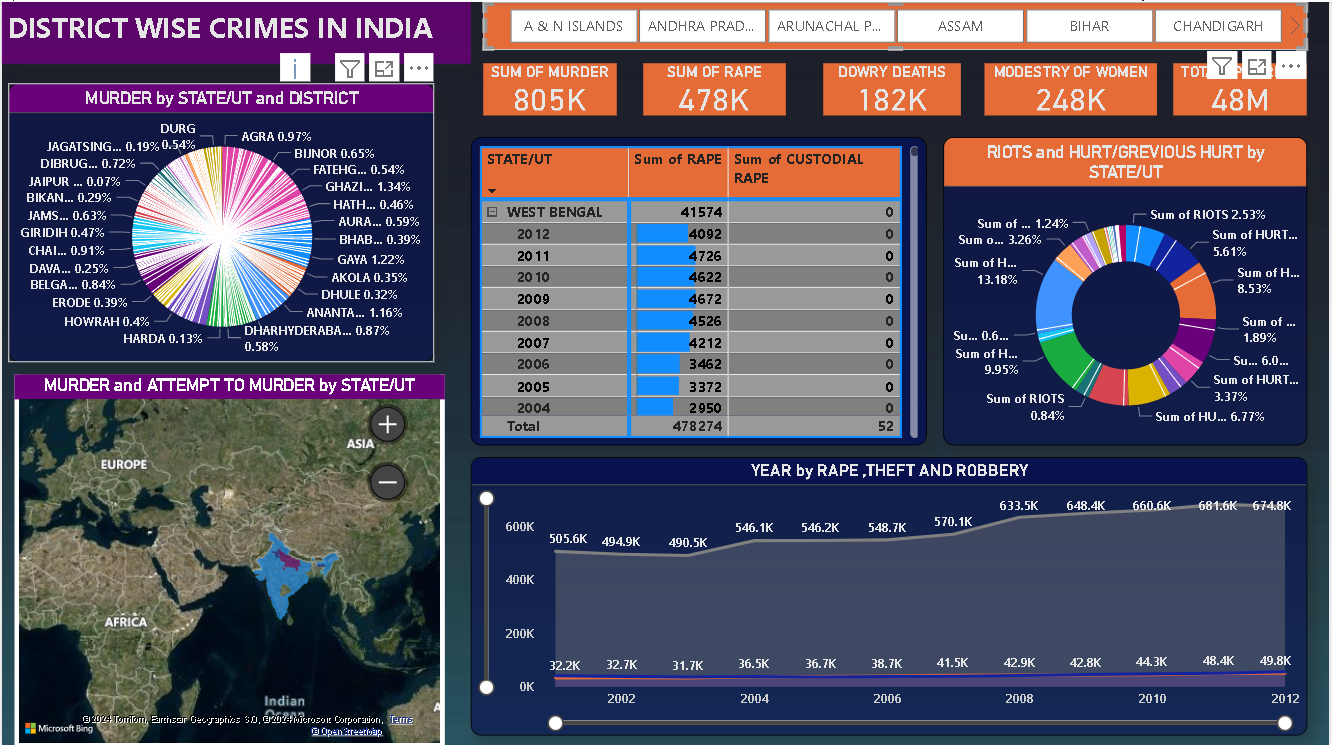

This screenshot's page, from the dashboard's own definition file:
{"tool":"powerbi","page":{"name":"Page 1","canvas":[1280,720],"ordinal":0},"visuals":[{"type":"filledMap","title":" MURDER and ATTEMPT TO MURDER by STATE/UT ","fields":{"Category":["District wise Crimes in India 2001-2012.STATE/UT"],"Series":["District wise Crimes in India 2001-2012.ATTEMPT TO MURDER"]},"box":[12.1,359.4,414.9,360.6],"z":0},{"type":"textbox","box":[0,0,452.3,59.1],"z":1000},{"type":"pieChart","title":"MURDER by STATE/UT and DISTRICT","fields":{"Category":["District wise Crimes in India 2001-2012.STATE/UT"],"Y":["Sum(District wise Crimes in India 2001-2012.MURDER)"],"Series":["District wise Crimes in India 2001-2012.DISTRICT"]},"box":[6,78.4,411.3,268.9],"z":2000},{"type":"areaChart","title":"YEAR by RAPE ,THEFT AND ROBBERY","fields":{"Category":["District wise Crimes in India 2001-2012.YEAR"],"Y":["Sum(District wise Crimes in India 2001-2012.RAPE)","Sum(District wise Crimes in India 2001-2012.THEFT)","Sum(District wise Crimes in India 2001-2012.ROBBERY)"]},"box":[452.3,439,806.8,268.9],"z":3000},{"type":"donutChart","title":"RIOTS and HURT/GREVIOUS HURT by STATE/UT","fields":{"Category":["District wise Crimes in India 2001-2012.STATE/UT","District wise Crimes in India 2001-2012.YEAR"],"Y":["Sum(District wise Crimes in India 2001-2012.RIOTS)","Sum(District wise Crimes in India 2001-2012.HURT/GREVIOUS HURT)"]},"box":[908.1,130.3,351,297.9],"z":4000},{"type":"pivotTable","title":"RAPE and CUSTODIAL RAFE BY STATE","fields":{"Rows":["District wise Crimes in India 2001-2012.STATE/UT","District wise Crimes in India 2001-2012.YEAR"],"Values":["Sum(District wise Crimes in India 2001-2012.RAPE)","Sum(District wise Crimes in India 2001-2012.CUSTODIAL RAPE)"]},"box":[452.3,130.3,440.2,297.9],"z":5000},{"type":"card","title":"SUM OF MURDER","fields":{"Values":["Sum(District wise Crimes in India 2001-2012.MURDER)"]},"box":[464.3,59.1,129,50.7],"z":6000},{"type":"card","title":"SUM OF RAPE","fields":{"Values":["Sum(District wise Crimes in India 2001-2012.RAPE)"]},"box":[618.7,59.1,137.5,50.7],"z":7000},{"type":"card","title":"TOTAL IPC CRIME","fields":{"Values":["Sum(District wise Crimes in India 2001-2012.TOTAL IPC CRIMES)"]},"box":[1130.1,59.1,129,50.7],"z":8000},{"type":"card","title":"MODESTRY OF  WOMEN","fields":{"Values":["Sum(District wise Crimes in India 2001-2012.INSULT TO MODESTY OF WOMEN)"]},"box":[947.9,59.1,166.4,50.7],"z":9000},{"type":"card","title":"DOWRY DEATHS","fields":{"Values":["Sum(District wise Crimes in India 2001-2012.DOWRY DEATHS)"]},"box":[792.4,59.1,132.7,50.7],"z":10000},{"type":"slicer","fields":{"Values":["District wise Crimes in India 2001-2012.STATE/UT"]},"box":[464.3,0,794.8,45.8],"z":11000}]}

Visuals, with their boxes in screenshot pixels (x1, y1, x2, y2), scaled from the page's 1280x720 canvas onto the 1332x745 screenshot:
" MURDER and ATTEMPT TO MURDER by STATE/UT " filledMap: BBox(13, 372, 444, 744)
textbox: BBox(0, 0, 471, 61)
"MURDER by STATE/UT and DISTRICT" pieChart: BBox(6, 81, 434, 359)
"YEAR by RAPE ,THEFT AND ROBBERY" areaChart: BBox(471, 454, 1310, 732)
"RIOTS and HURT/GREVIOUS HURT by STATE/UT" donutChart: BBox(945, 135, 1310, 443)
"RAPE and CUSTODIAL RAFE BY STATE" pivotTable: BBox(471, 135, 929, 443)
"SUM OF MURDER" card: BBox(483, 61, 617, 114)
"SUM OF RAPE" card: BBox(644, 61, 787, 114)
"TOTAL IPC CRIME" card: BBox(1176, 61, 1310, 114)
"MODESTRY OF  WOMEN" card: BBox(986, 61, 1160, 114)
"DOWRY DEATHS" card: BBox(825, 61, 963, 114)
slicer - District wise Crimes in India 2001-2012.STATE/UT: BBox(483, 0, 1310, 47)
